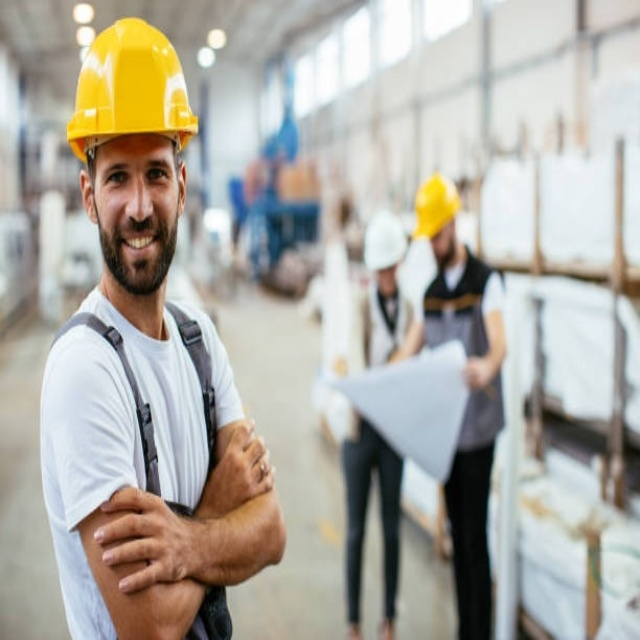Sin_gafas: (94, 151, 176, 205)
Sin_guantes: (93, 485, 197, 599), (205, 418, 276, 513), (459, 357, 492, 393)
Sin_mascara: (110, 221, 165, 276)
